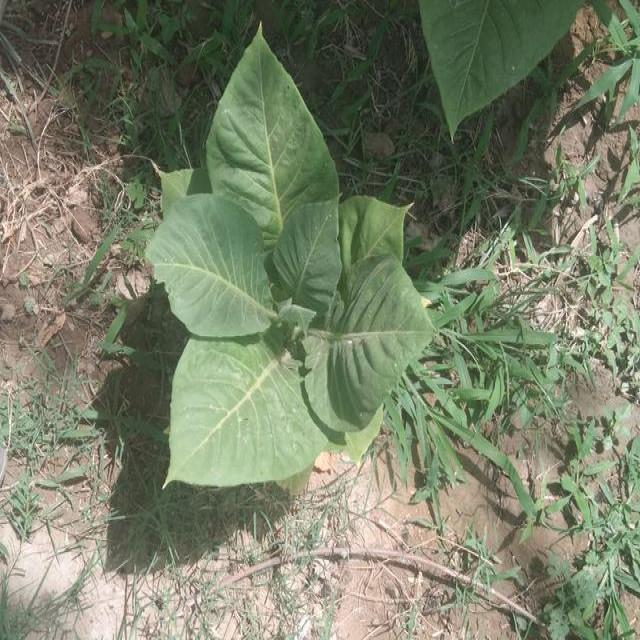crop: (139, 20, 437, 505)
